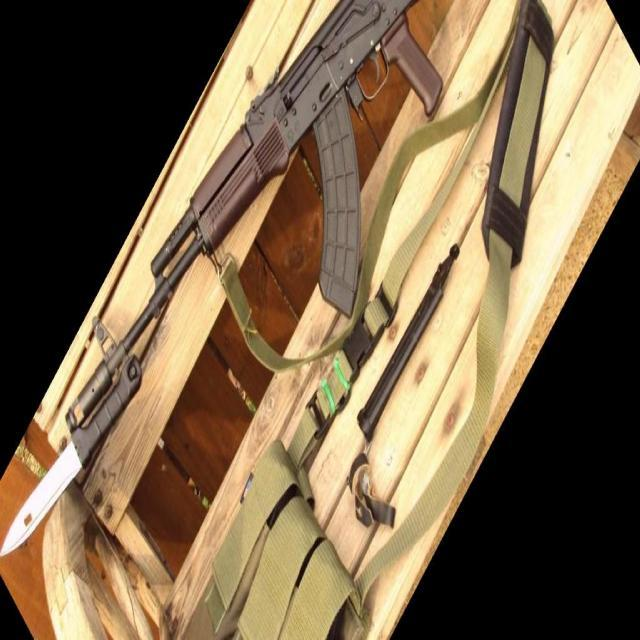weapon: (0, 0, 444, 560)
